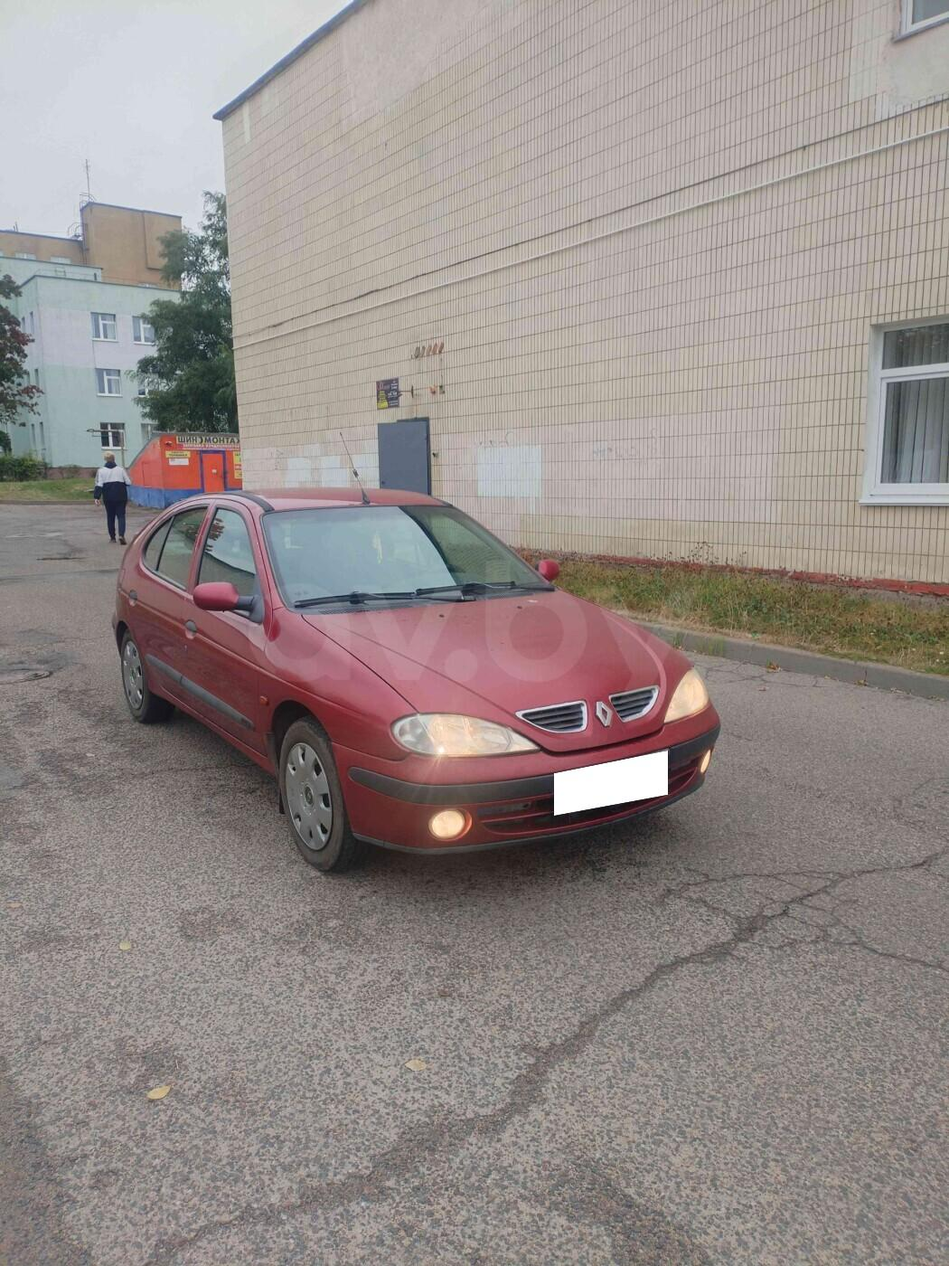Megane_1999-2003: (116, 490, 721, 890)
